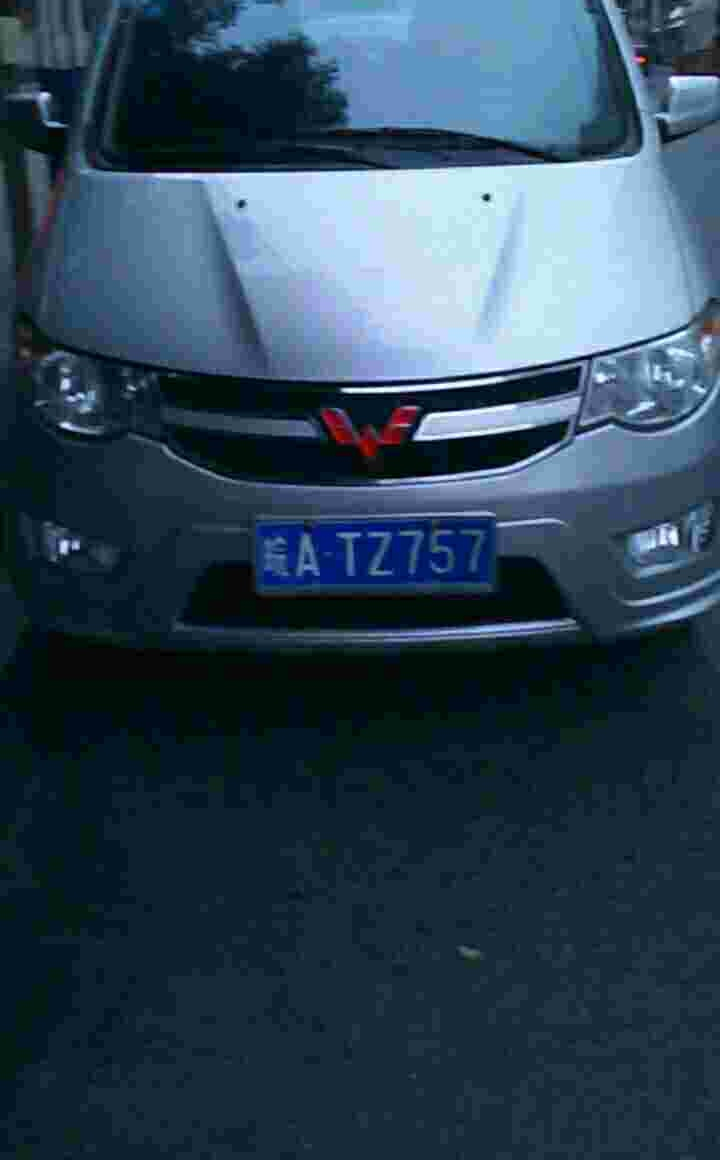license_plate: (260, 518, 497, 602)
